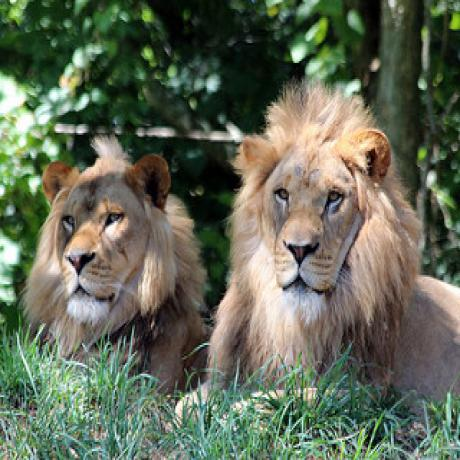Lion: (205, 88, 460, 416), (13, 129, 204, 404)
